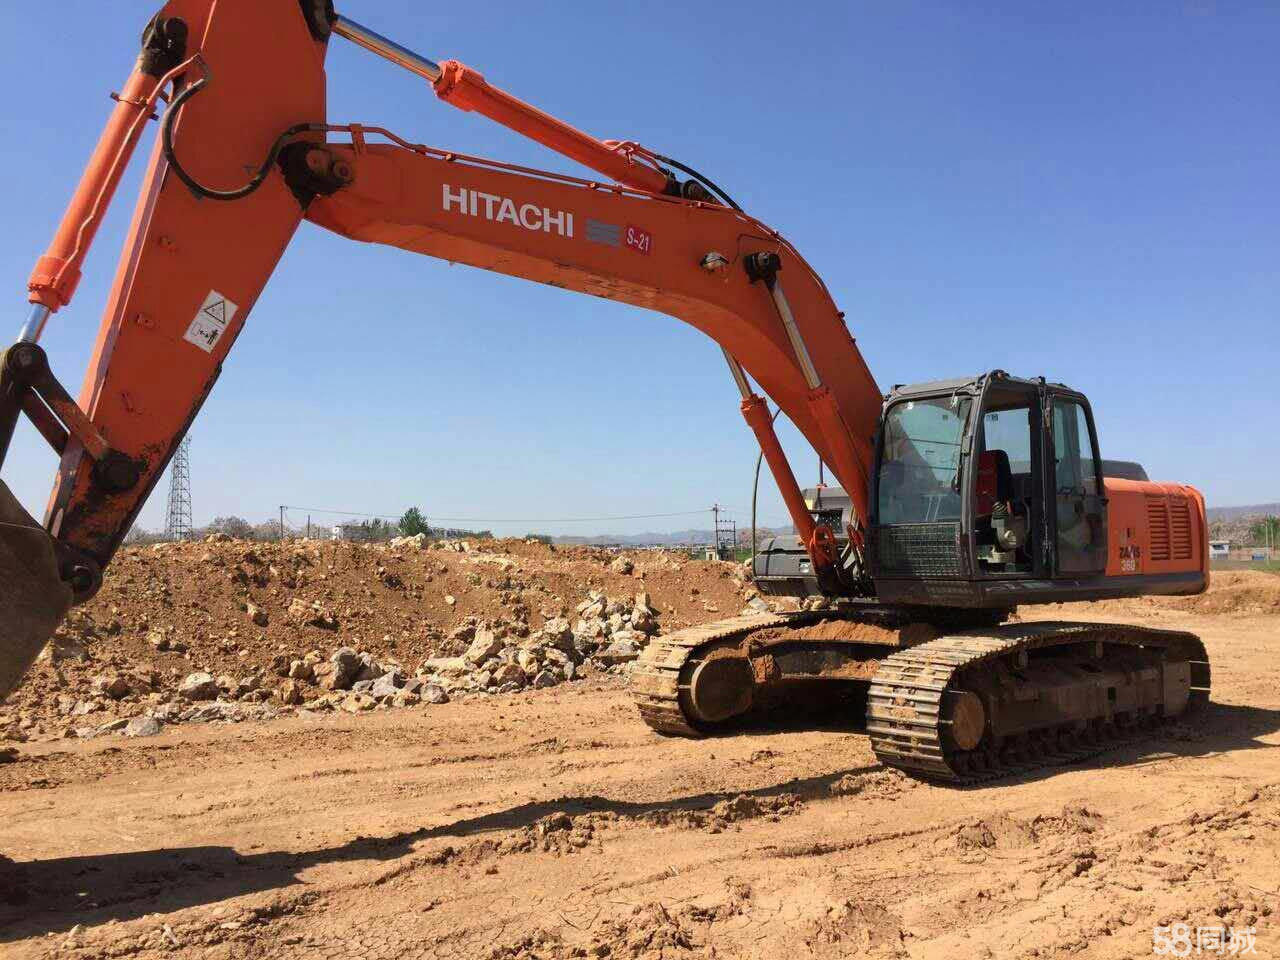excavator: (1, 1, 1228, 800)
